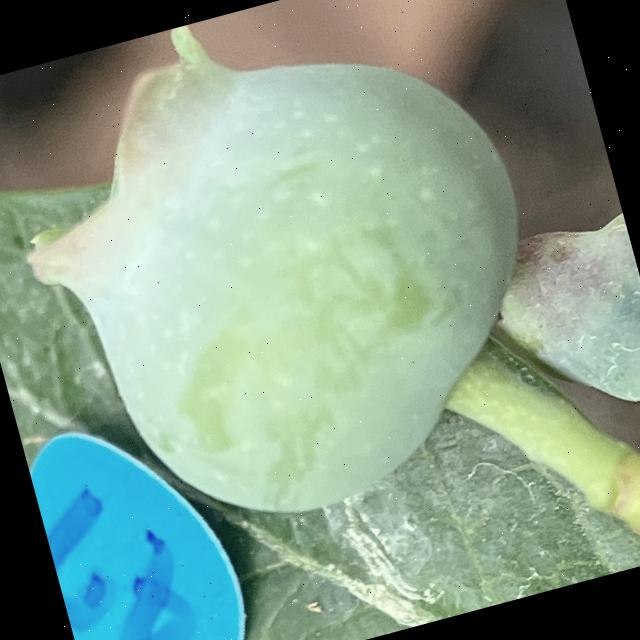Blueberries: (0, 0, 608, 603)
